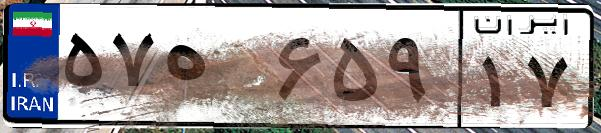1: (475, 38, 525, 113)
5: (330, 28, 385, 110), (57, 26, 110, 100)
6: (270, 28, 330, 110)
7: (525, 38, 570, 115), (110, 28, 158, 98)
9: (385, 28, 445, 110)
ه: (158, 20, 270, 120)
